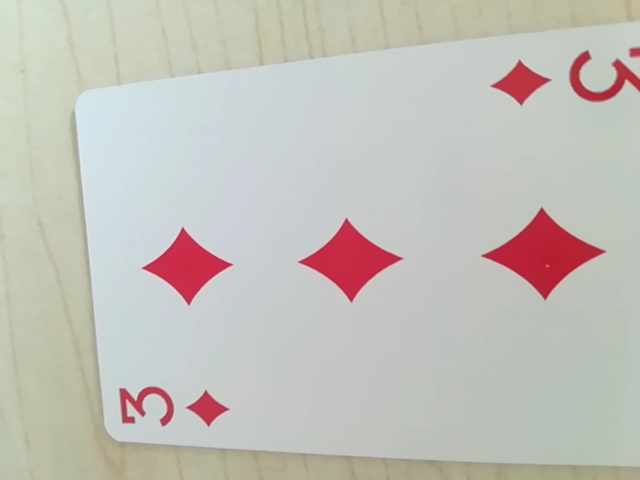fk 3: (491, 35, 640, 116), (112, 372, 235, 440)
